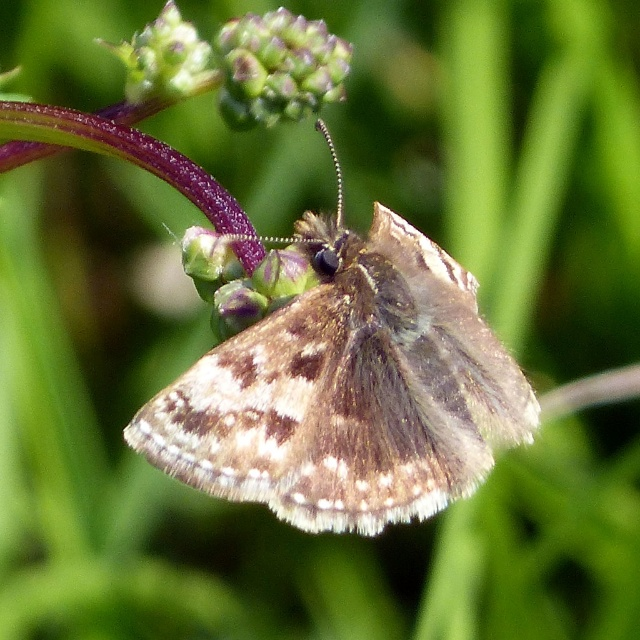Butterfly: (126, 159, 516, 568)
